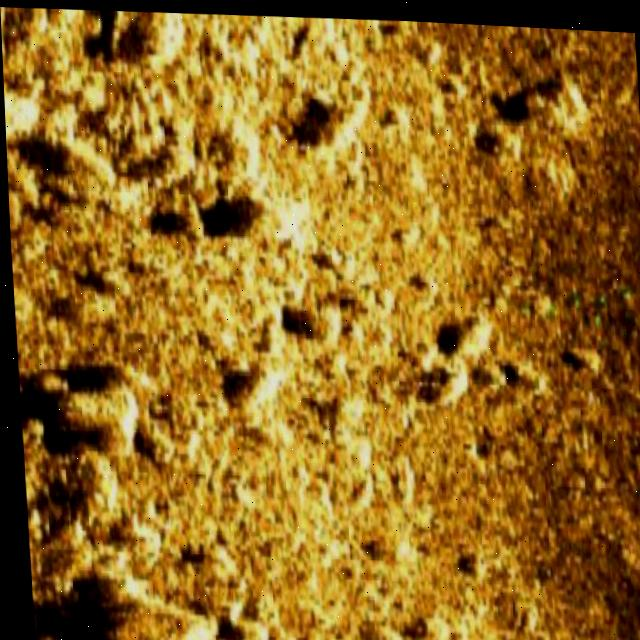bedrock group: (0, 0, 618, 640)
